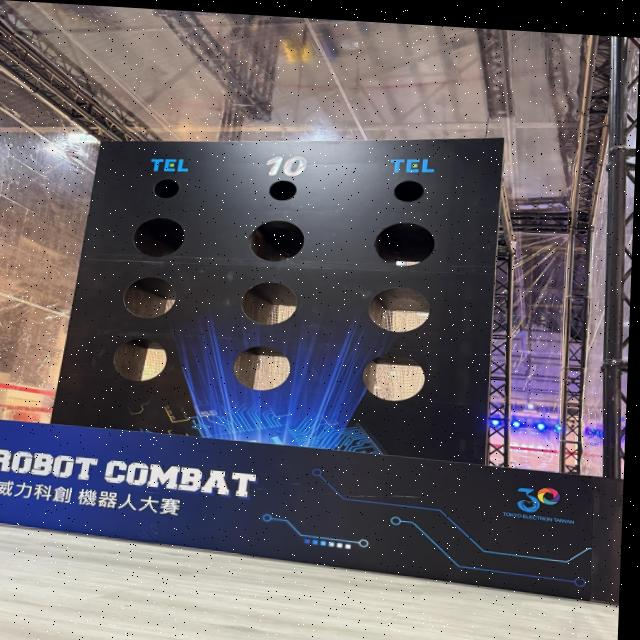hole: (363, 352, 425, 403), (367, 285, 430, 333), (374, 221, 435, 268), (233, 344, 292, 392), (242, 280, 299, 326), (113, 336, 167, 382), (248, 218, 304, 261), (123, 275, 177, 319), (134, 216, 185, 258), (393, 179, 424, 203), (269, 180, 297, 201), (153, 179, 179, 199)
